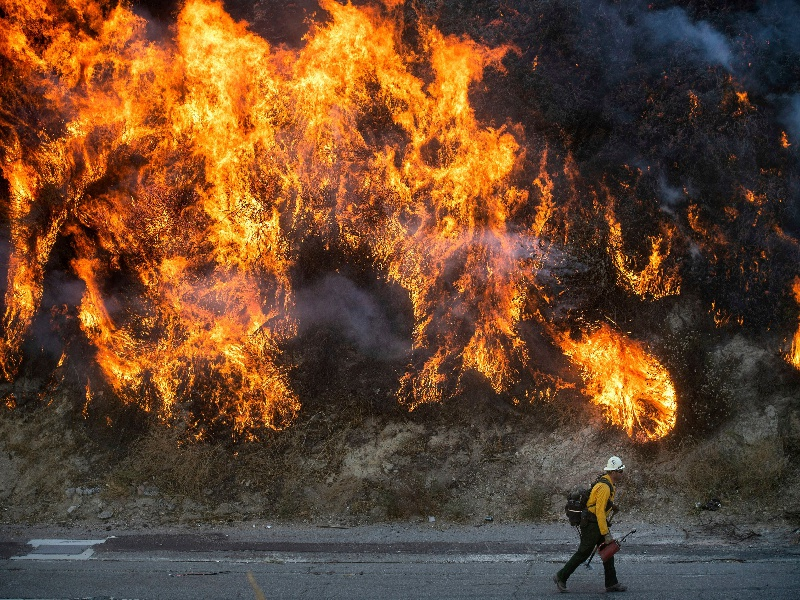fire: (1, 13, 685, 452), (781, 271, 800, 370), (688, 185, 712, 250), (732, 73, 761, 114), (705, 295, 732, 329), (771, 119, 796, 153), (742, 181, 765, 212)
